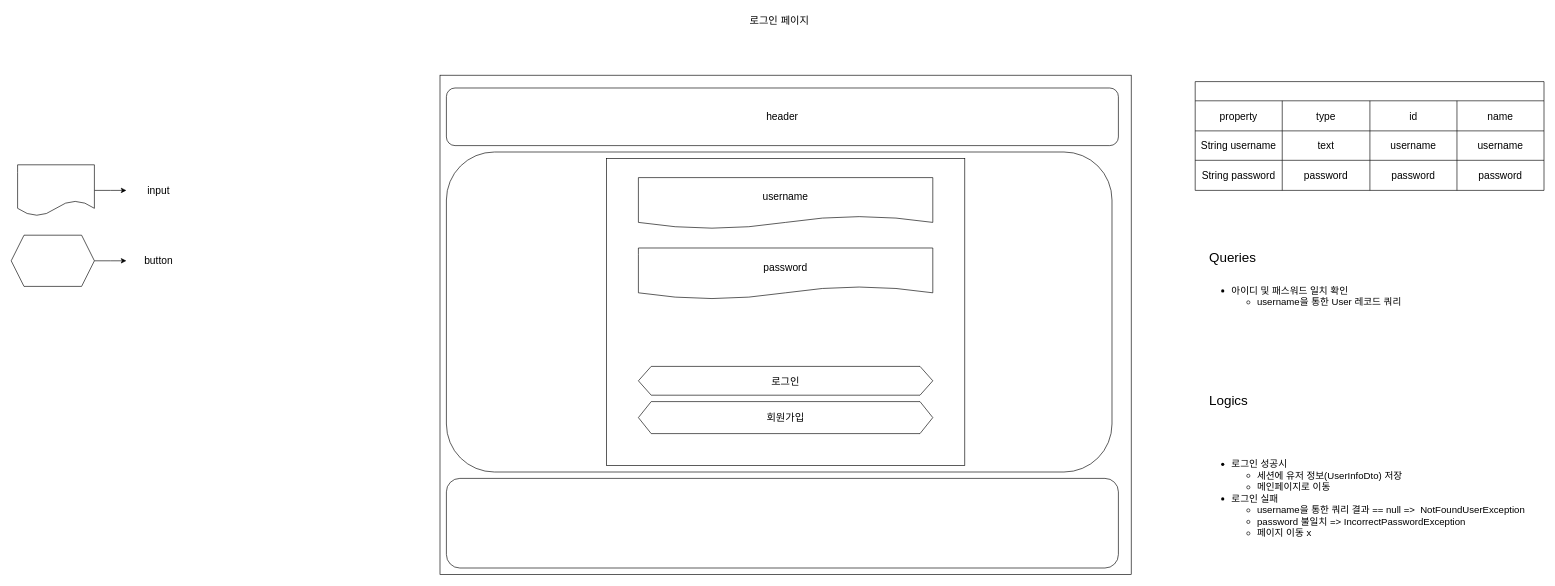
Image size: 1555x586. Some labels were removed from this diagram. Here are the shapes that lost their labels. From the top down, the box of each, then its label:
(1195, 81, 1544, 190): Login Form(UserLoginDto)
(446, 478, 1118, 568): footer
